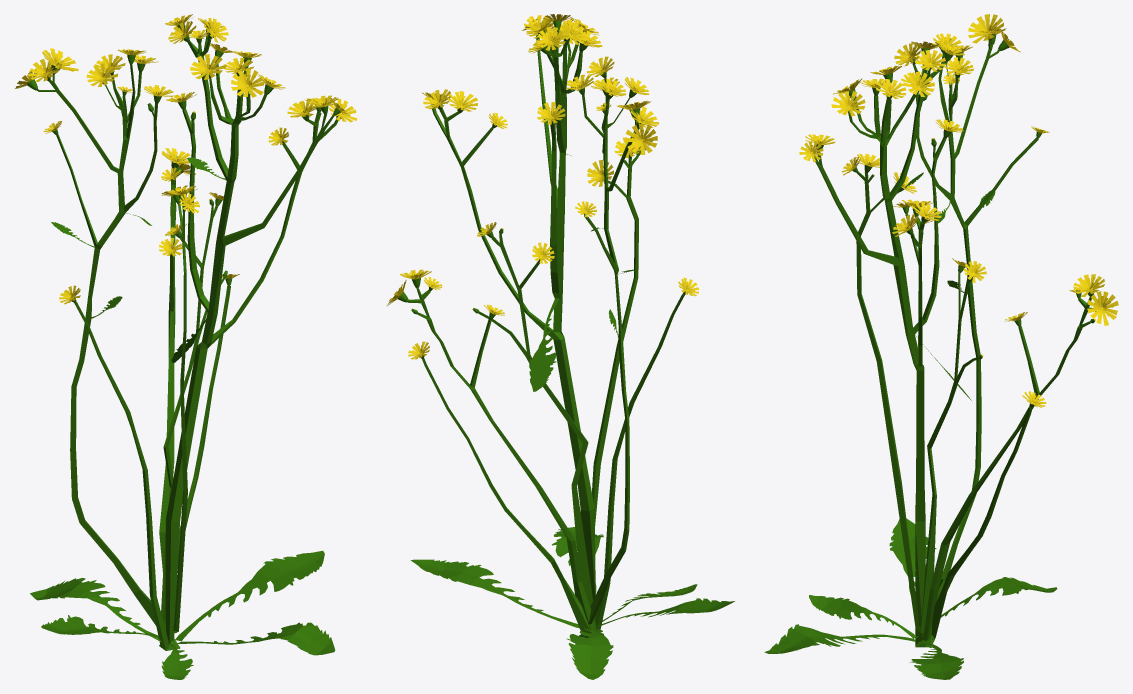
Rendered from wiesen-_piepau_crepis_biennis.glb.
3 renders of one model, left to right at view 1: azimuth 30°, elevation 25°; view 2: azimuth 150°, elevation 25°; view 3: azimuth 270°, elevation 25°, orthographic.
Visible parts, largest first — view 1: Object_2, Object_3; view 2: Object_2, Object_3; view 3: Object_2, Object_3.
Boxes of the visible parts, x1,y1,x2,y2 form: Object_2: (27, 23, 341, 679); Object_3: (15, 14, 357, 304); Object_2: (397, 20, 734, 679); Object_3: (387, 14, 699, 359); Object_2: (764, 34, 1095, 679); Object_3: (799, 14, 1118, 407).
Bounding box in the file's own units: 2.81 × 5.28 × 2.76.
